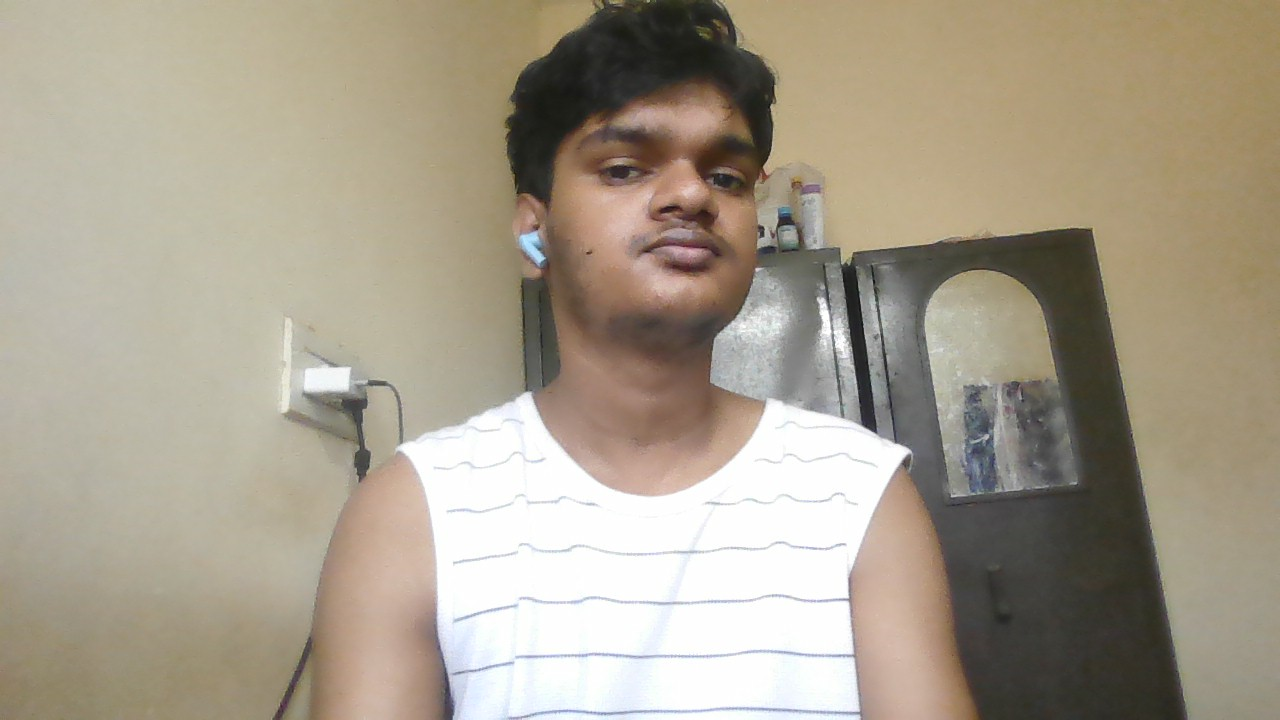earphone: (517, 225, 550, 267)
